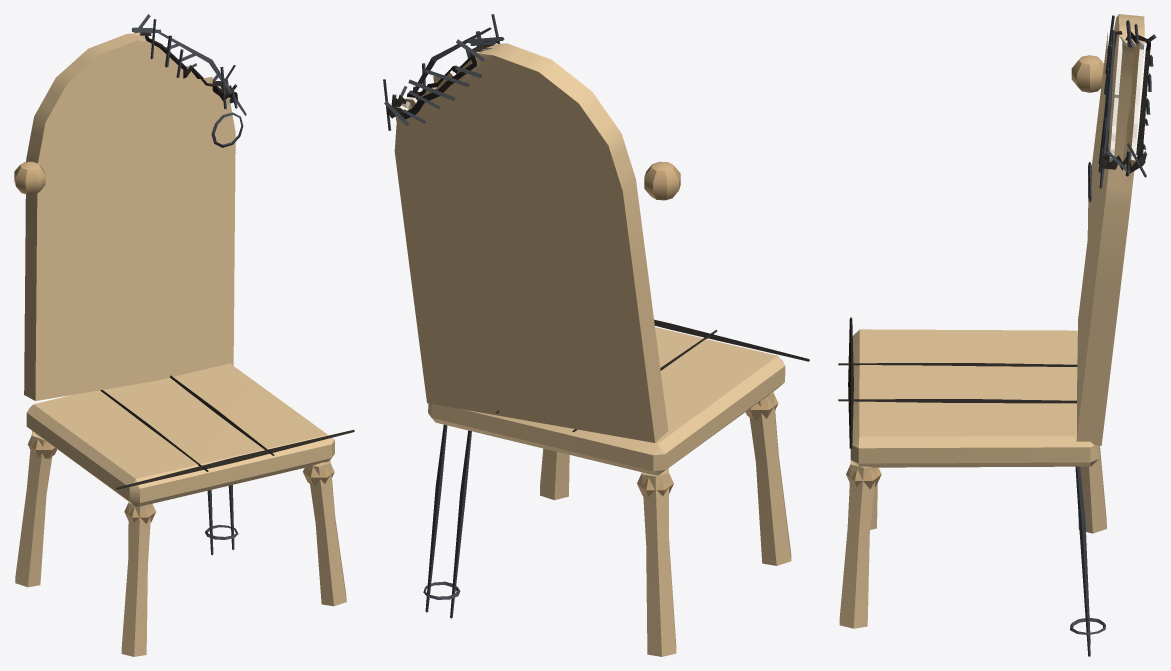
Rendered from Chair.fbx.
3 renders of one model, left to right at view 1: azimuth 30°, elevation 25°; view 2: azimuth 150°, elevation 25°; view 3: azimuth 270°, elevation 25°, orthographic. The views are drawn at different scales.
Visible parts, largest first — view 1: Main, Face, Lines; view 2: Main, Lines; view 3: Main, Lines, Face.
Boxes of the visible parts, x1,y1,x2,y2 form: Main: (14, 32, 346, 656); Face: (66, 76, 212, 260); Lines: (100, 14, 354, 555); Main: (394, 43, 791, 656); Lines: (383, 14, 809, 618); Main: (839, 14, 1144, 628); Lines: (838, 15, 1156, 656); Face: (1087, 32, 1107, 283).
Size of the model in its own units: 0.7376 by 1.56 by 0.7469.
